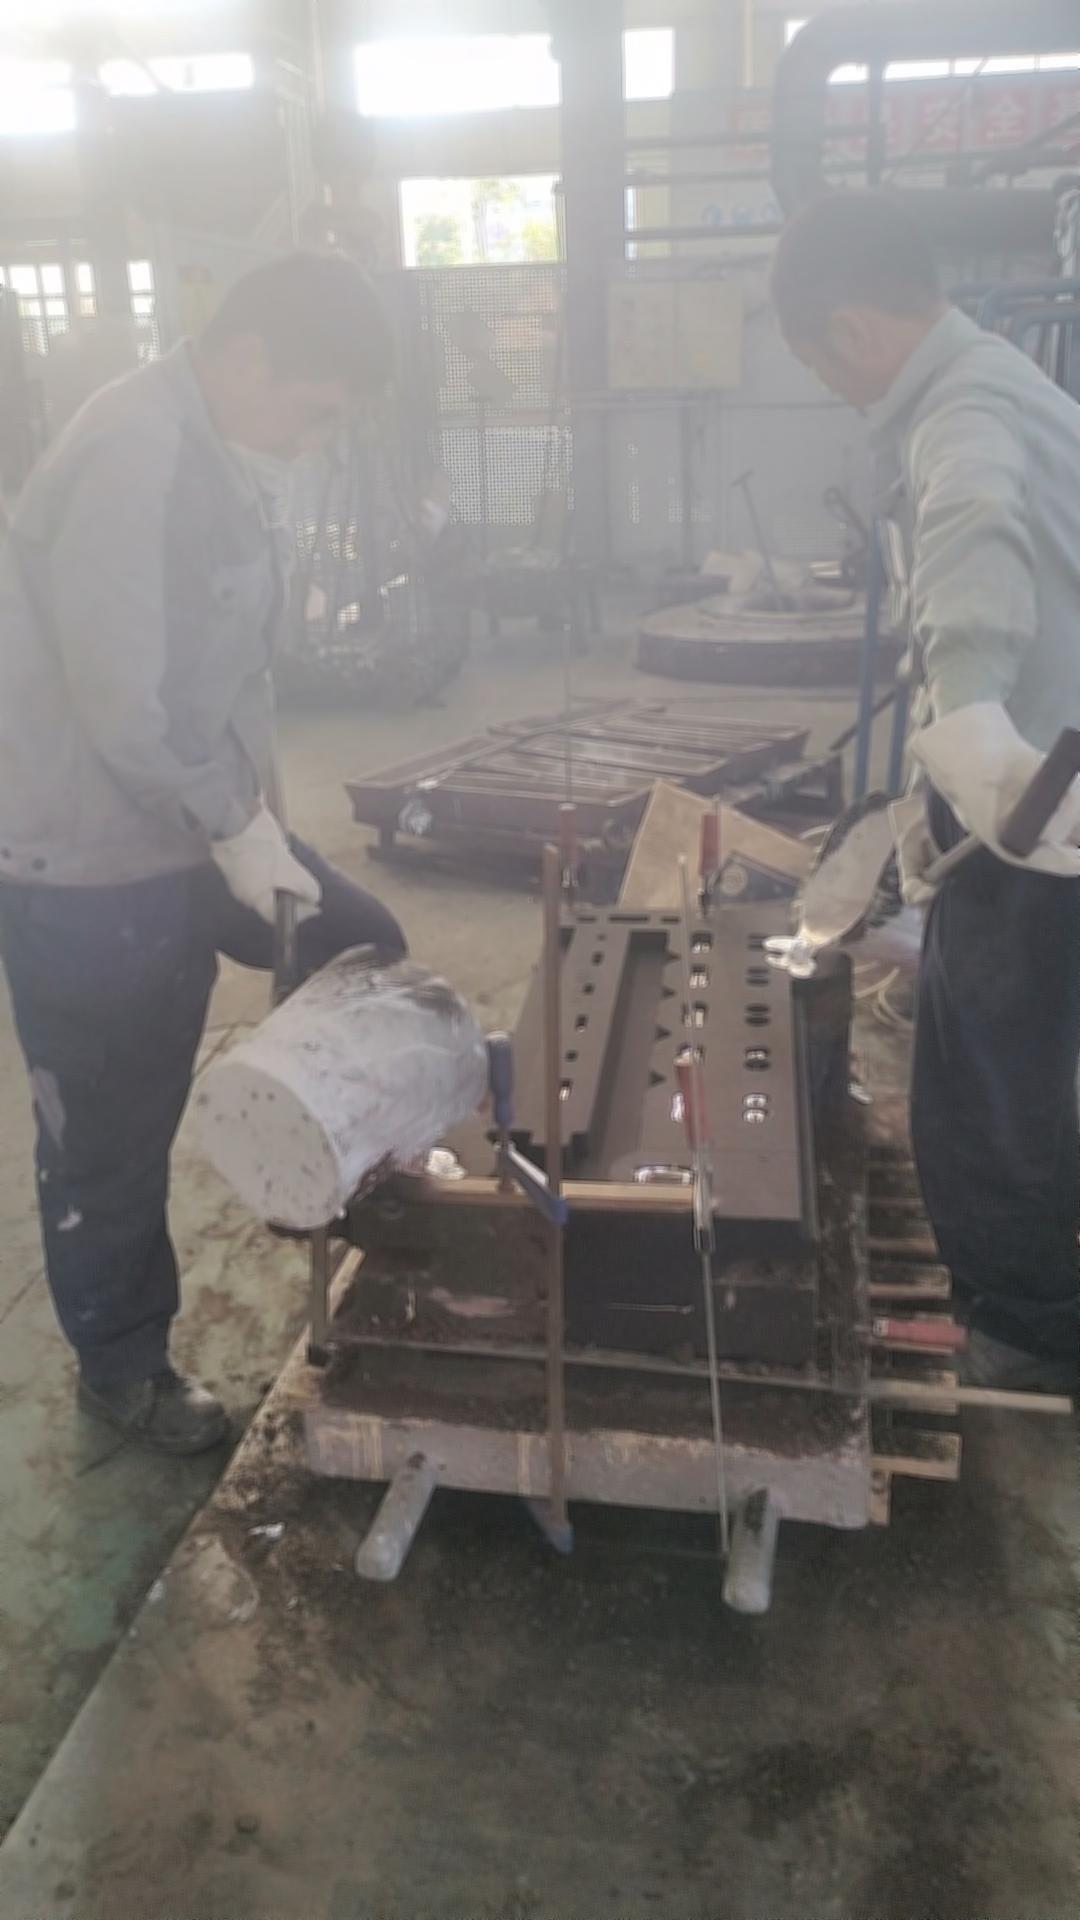pouring hole: (394, 1145, 460, 1178), (769, 949, 824, 975)
